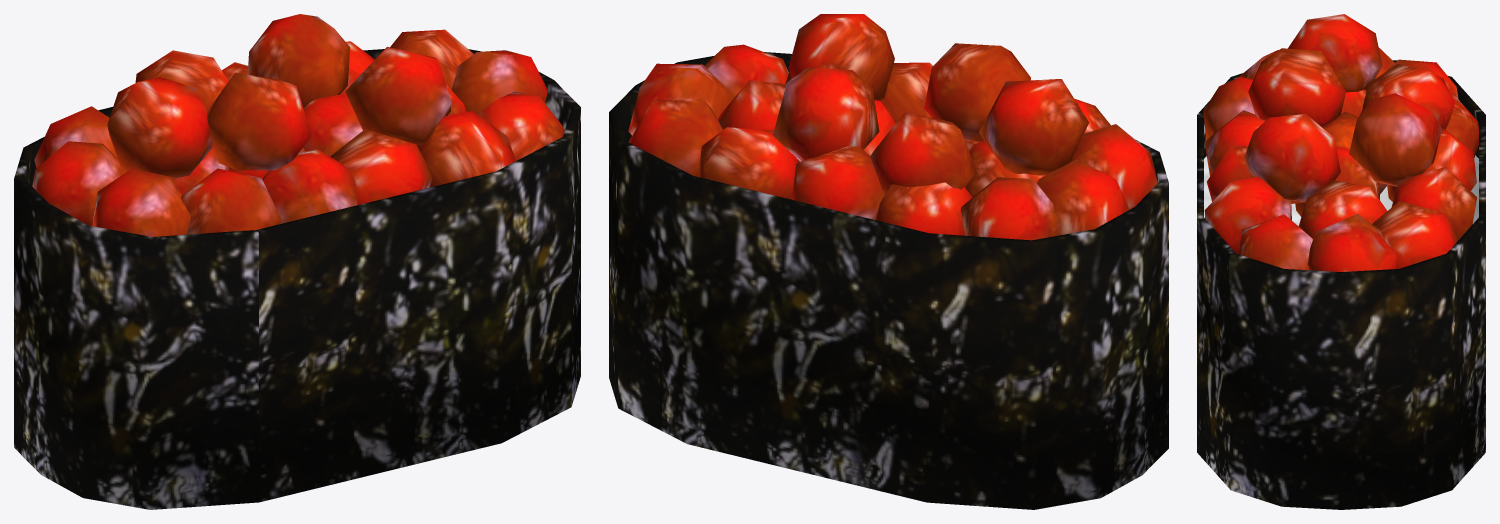
The model's file is salmonroe.fbx.
3 views of the same model, side by side, from view 1: azimuth 30°, elevation 25°; view 2: azimuth 150°, elevation 25°; view 3: azimuth 270°, elevation 25° (orthographic). The views are drawn at different scales.
Visible parts, largest first — view 1: salmonroe; view 2: salmonroe; view 3: salmonroe.
Part boxes in pixels (box(x1,y1,x2,y2)): salmonroe: box(14, 14, 580, 509); salmonroe: box(609, 14, 1168, 509); salmonroe: box(1197, 14, 1485, 509).
Bounding box in the file's own units: 5.61 × 3.84 × 3.14.
